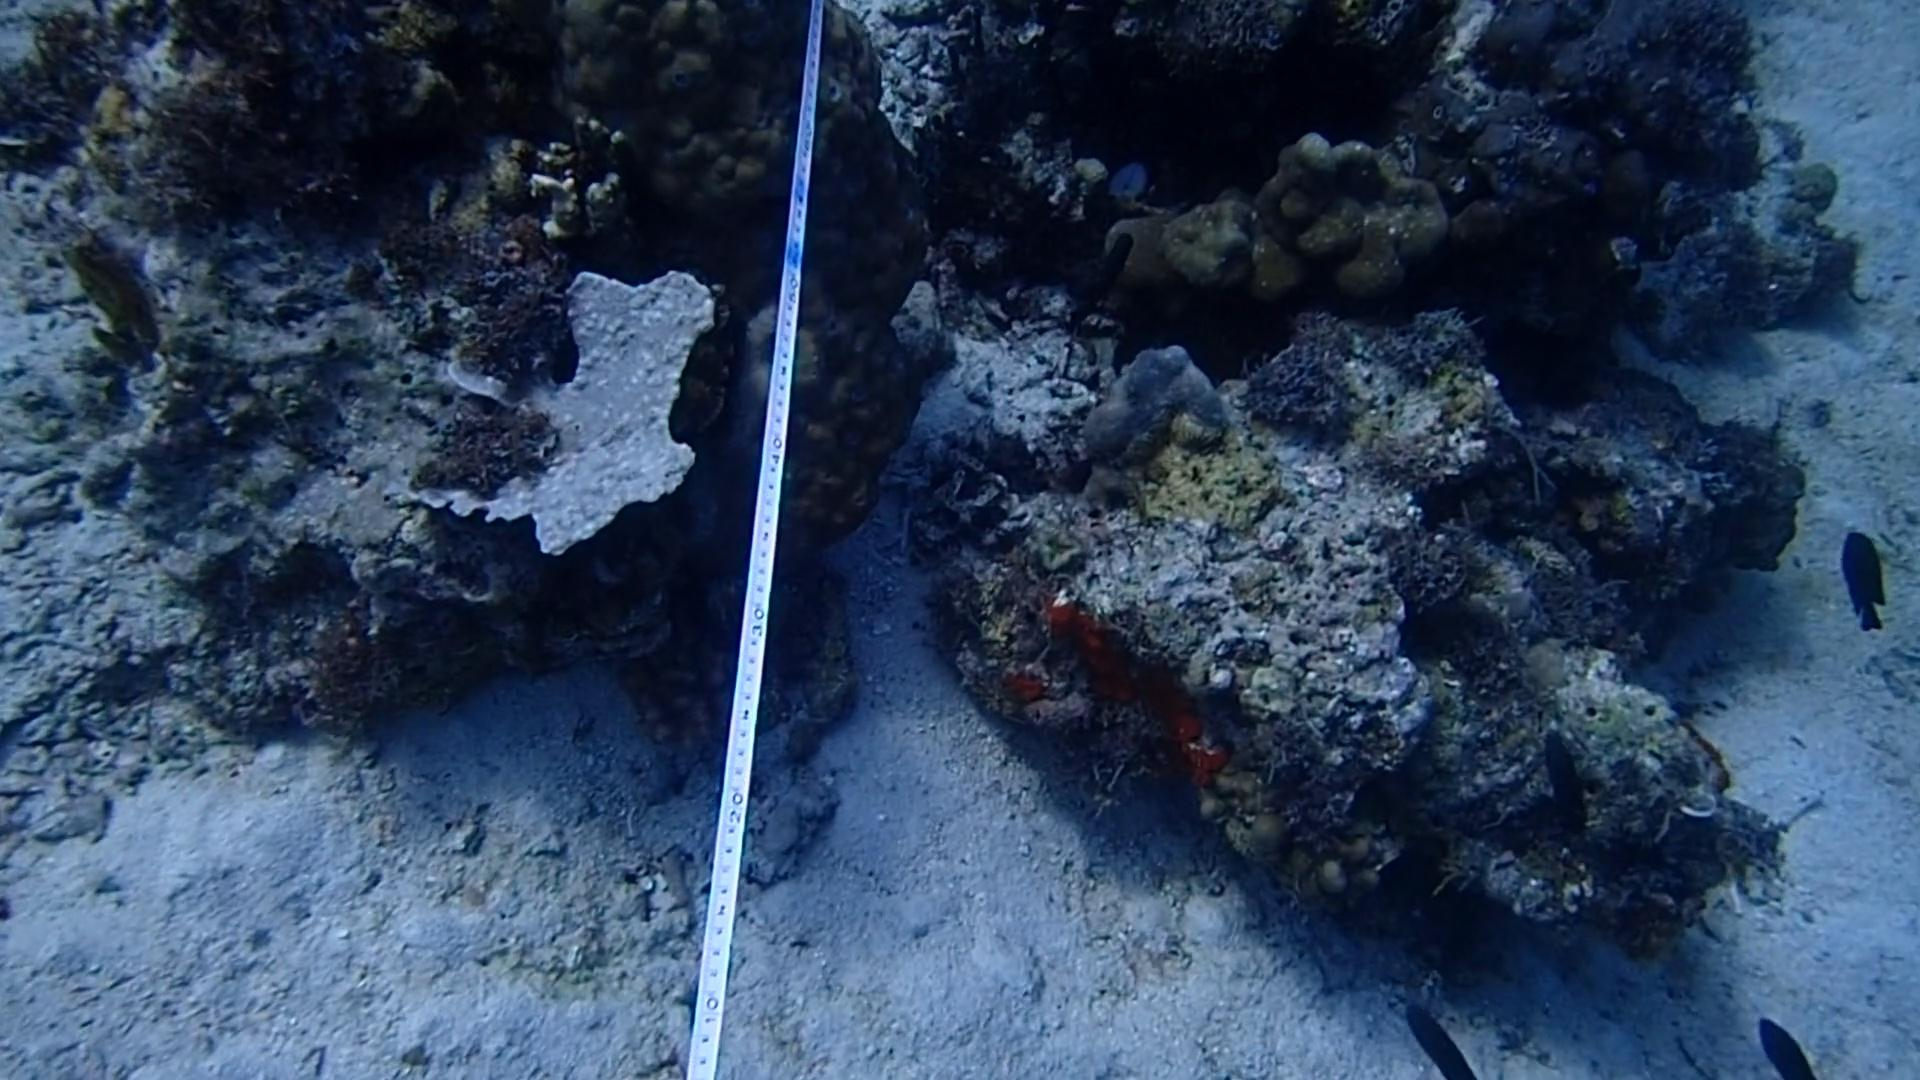Dark Fish: (1825, 510, 1896, 649), (1395, 1001, 1476, 1080), (1738, 1007, 1825, 1080)
